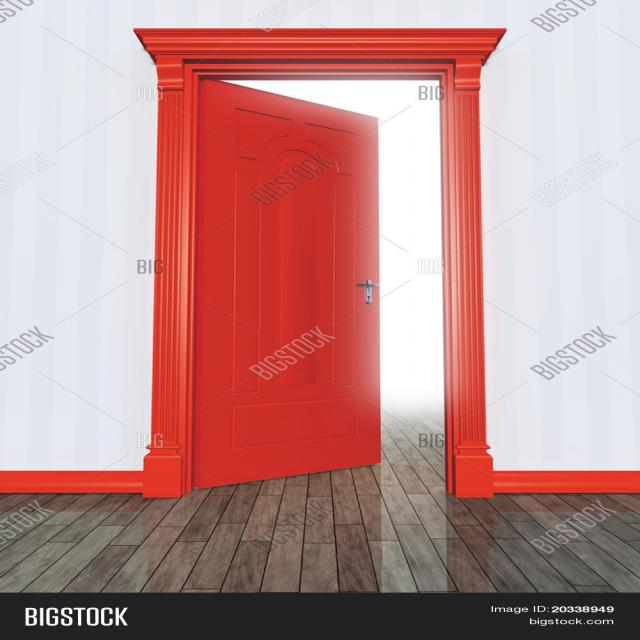open: (187, 67, 460, 496)
